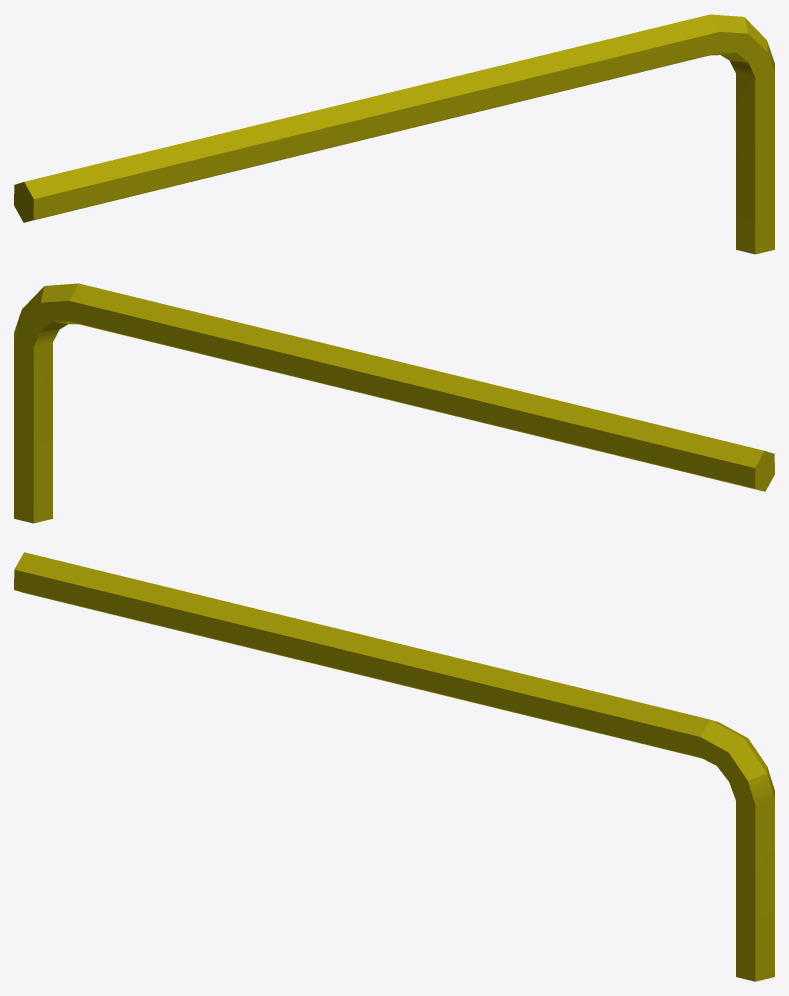
File: Allen_Key.fbx
3 renders of one model, top to bottom at view 1: azimuth 30°, elevation 25°; view 2: azimuth 150°, elevation 25°; view 3: azimuth 330°, elevation 25°, orthographic.
Parts seen in each view (by area): view 1: Allen_Key; view 2: Allen_Key; view 3: Allen_Key.
Part boxes in pixels (x1,y1,x2,y2): Allen_Key: (14,14,774,254); Allen_Key: (14,283,774,523); Allen_Key: (14,552,774,981).
Bounding box in the file's own units: 0.3126 × 0.0961 × 0.0141.
